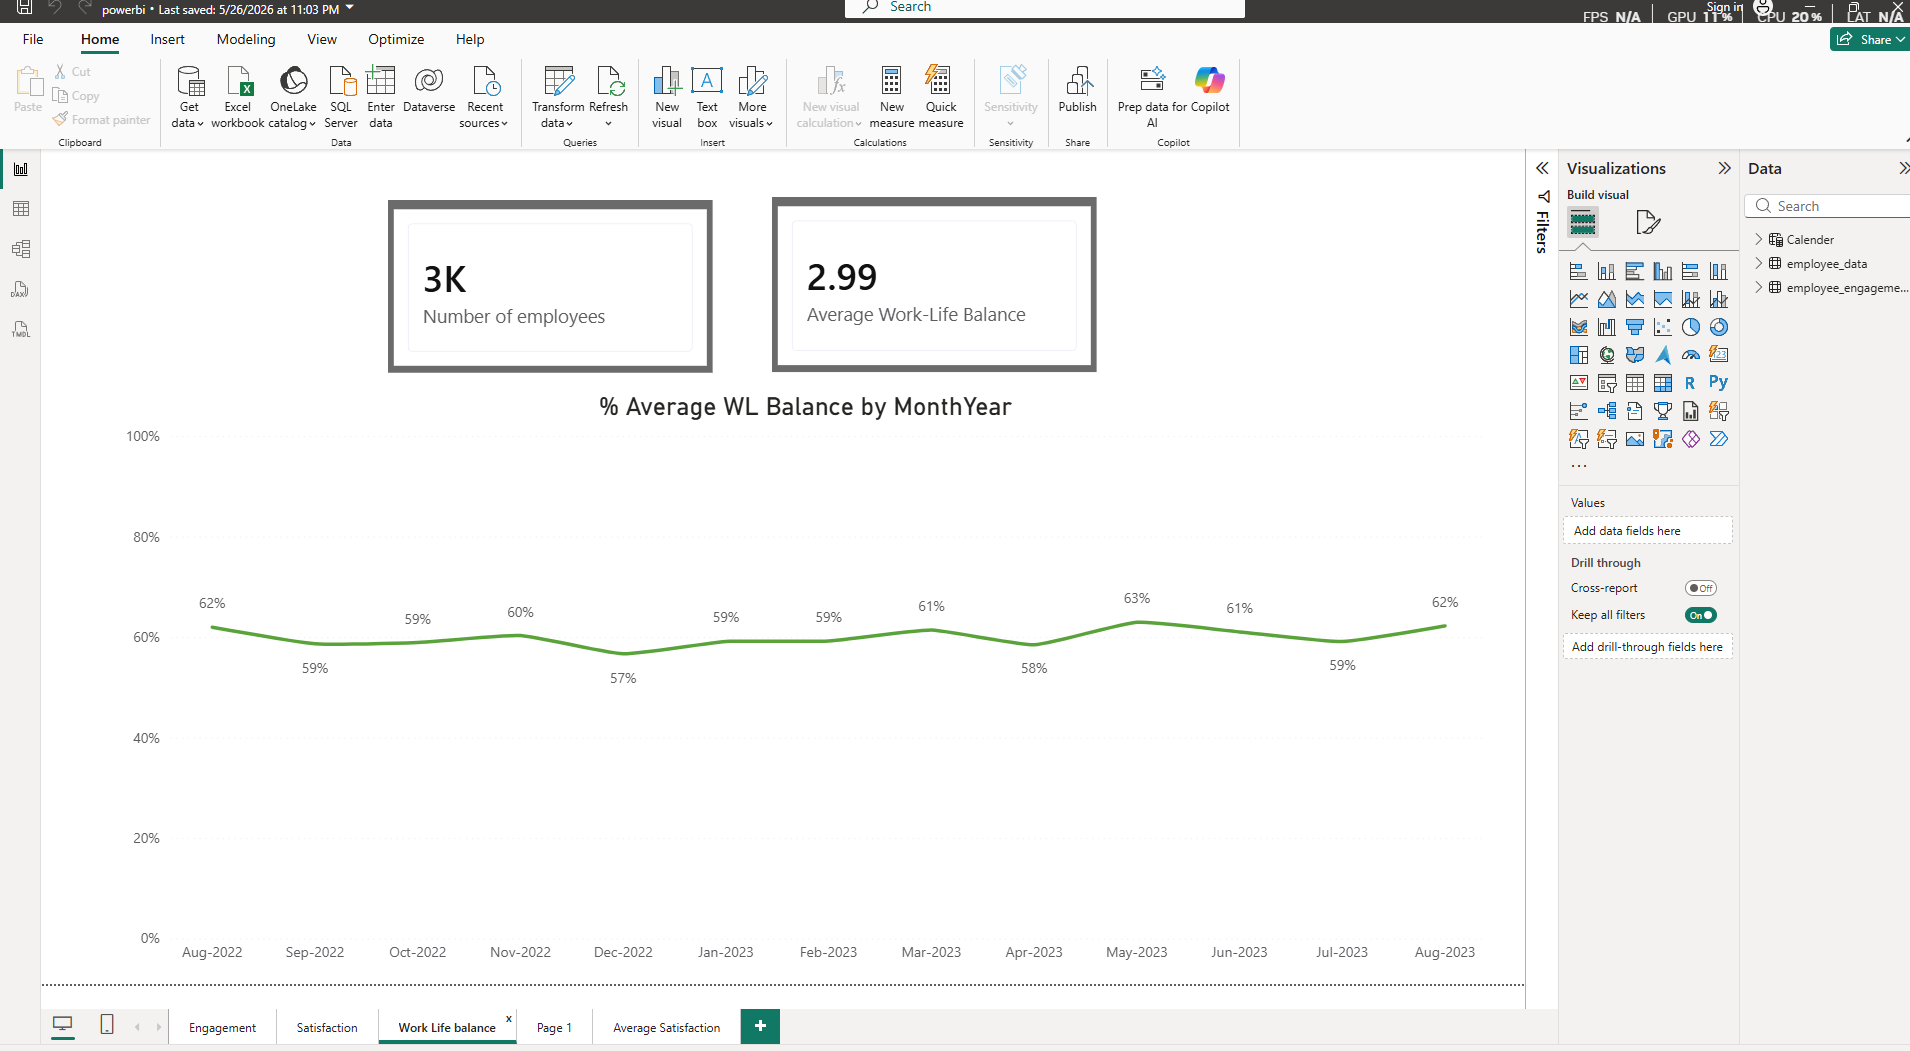

This screenshot's page, from the dashboard's own definition file:
{"tool":"powerbi","page":{"name":"Work Life balance","canvas":[1280,720],"ordinal":2},"visuals":[{"type":"cardVisual","fields":{"Data":["CountNonNull(employee_engagement_survey_data.EmpID)"]},"box":[299.6,43.8,280.1,148.8],"z":0},{"type":"cardVisual","fields":{"Data":["Avg(employee_engagement_survey_data.Work-Life Balance)"]},"box":[630.3,41.8,280.1,150.8],"z":1000},{"type":"lineChart","fields":{"Y":["employee_engagement_survey_data.% Average WL Balance"],"Category":["Calender.MonthYear"]},"box":[67.4,209.9,1184.3,501.3],"z":2000}]}

Visuals, with their boxes on the page's 1280x720 design canvas (x1, y1, x2, y2). These are canvas units, not pixel positions in the 1910x1051 screenshot, which may show the page scaled, cropped or inside an application window:
cardVisual - CountNonNull(employee_engagement_survey_data.EmpID): (x1=300, y1=44, x2=580, y2=193)
cardVisual - Avg(employee_engagement_survey_data.Work-Life Balance): (x1=630, y1=42, x2=910, y2=193)
lineChart - employee_engagement_survey_data.% Average WL Balance x Calender.MonthYear: (x1=67, y1=210, x2=1252, y2=711)
